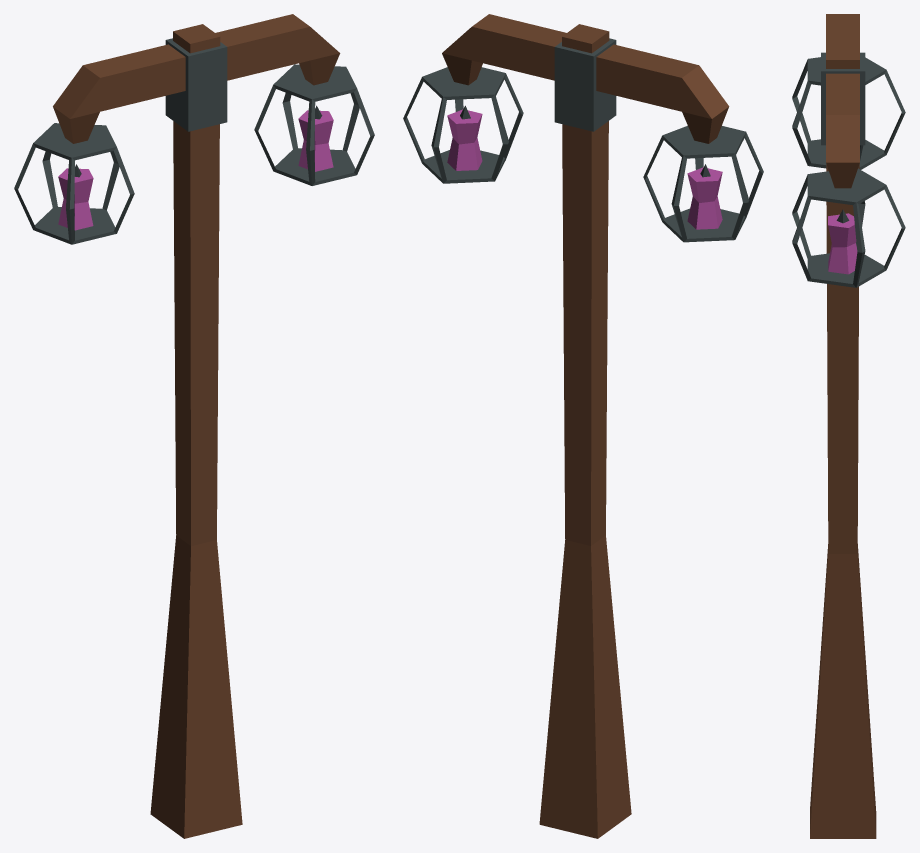
Rendered from Lamp_6_Purple.fbx.
The picture shows the model from 3 angles, left to right: view 1: azimuth 30°, elevation 25°; view 2: azimuth 150°, elevation 25°; view 3: azimuth 270°, elevation 25°; orthographic projection.
Parts seen in each view (by area): view 1: Lamp_6_Purple; view 2: Lamp_6_Purple; view 3: Lamp_6_Purple.
Part boxes in pixels (<box>): Lamp_6_Purple: <box>14,14,374,838</box>; Lamp_6_Purple: <box>403,14,763,838</box>; Lamp_6_Purple: <box>792,14,905,838</box>.
Bounding box in the file's own units: 115 × 250 × 33.27.
